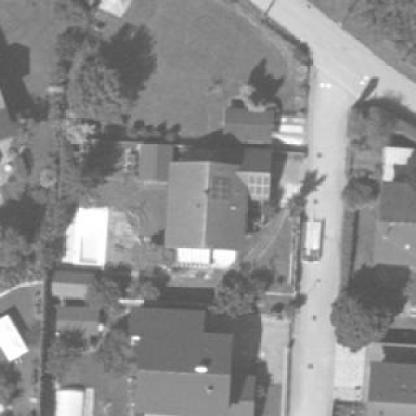solar-pv-panel: (212, 177, 232, 198), (248, 175, 270, 194)
